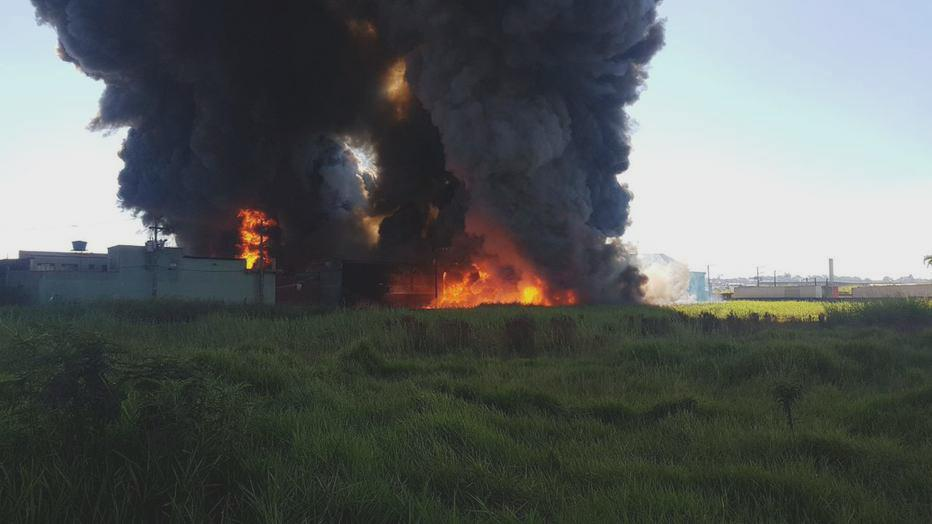fire: (448, 266, 541, 314), (242, 213, 274, 270)
smoke: (410, 7, 623, 254), (78, 3, 341, 203)
